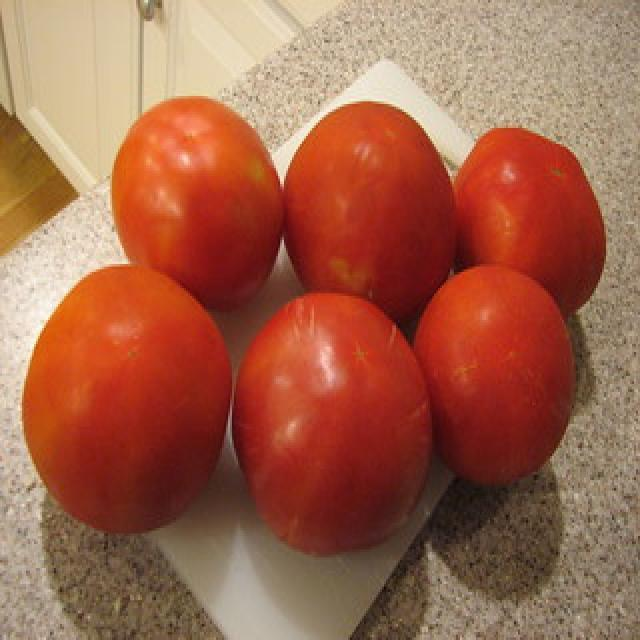kirmizi: (18, 74, 622, 566)
